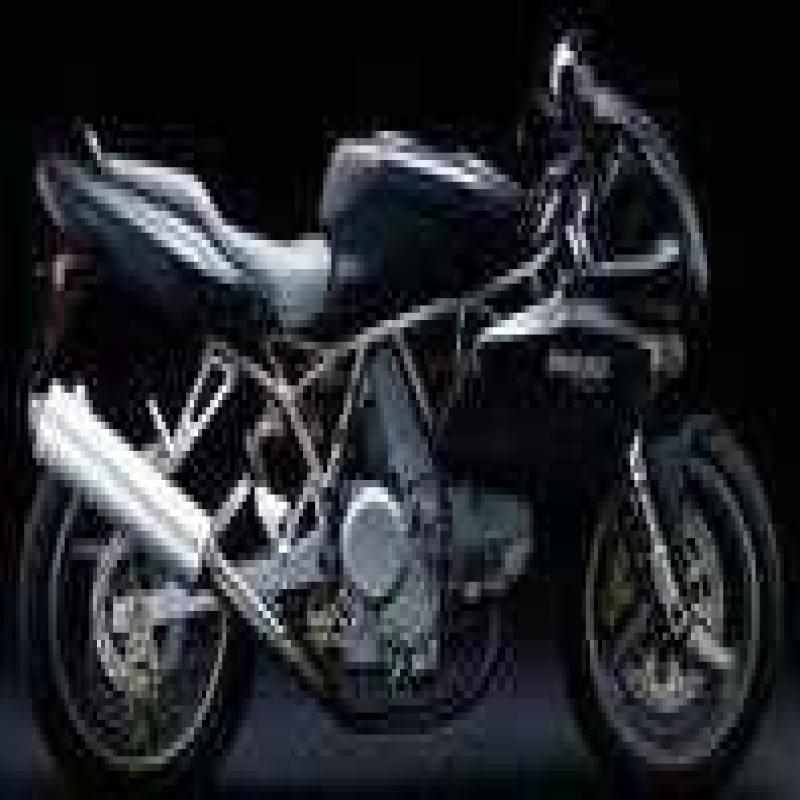bike: (25, 33, 715, 775)
